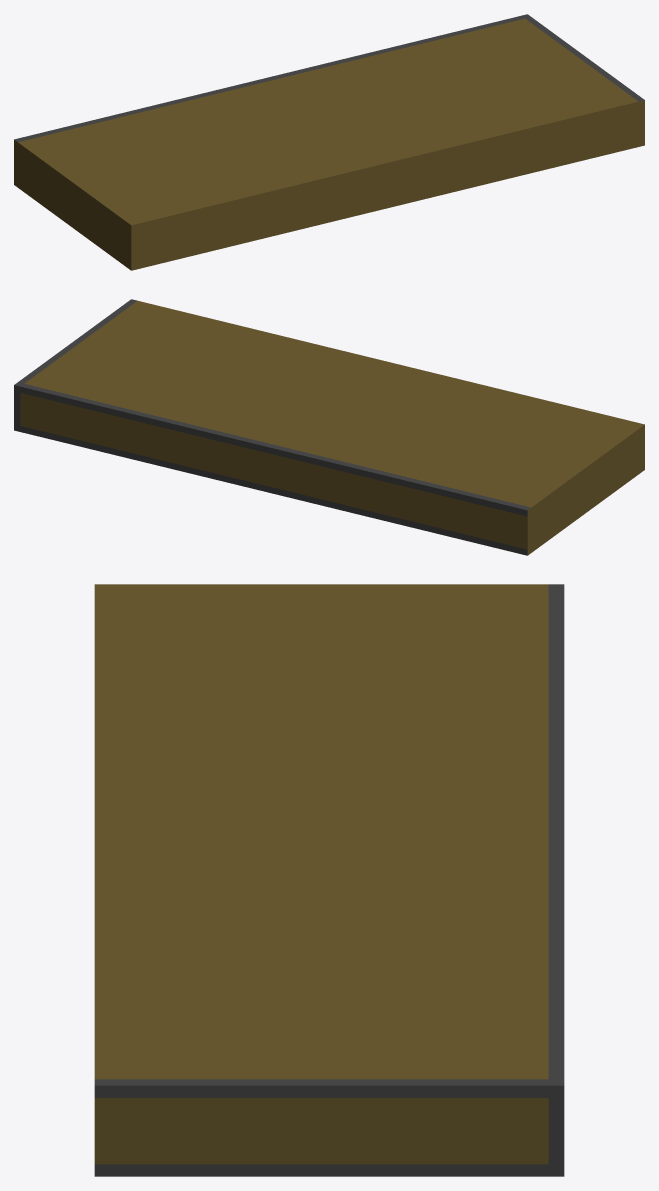
The model's file is Platform.fbx.
The picture shows the model from 3 angles, top to bottom: view 1: azimuth 30°, elevation 25°; view 2: azimuth 150°, elevation 25°; view 3: azimuth 270°, elevation 25°; orthographic projection. The views are drawn at different scales.
Parts seen in each view (by area): view 1: Platform; view 2: Platform; view 3: Platform.
Boxes of the visible parts, x1=… form: Platform: x1=14, y1=14, x2=644, y2=270; Platform: x1=14, y1=299, x2=644, y2=555; Platform: x1=94, y1=584, x2=564, y2=1176.
Size of the model in its own units: 1030 by 87.06 by 408.
